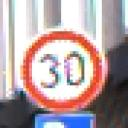speed_limit_30: (19, 27, 111, 117)
